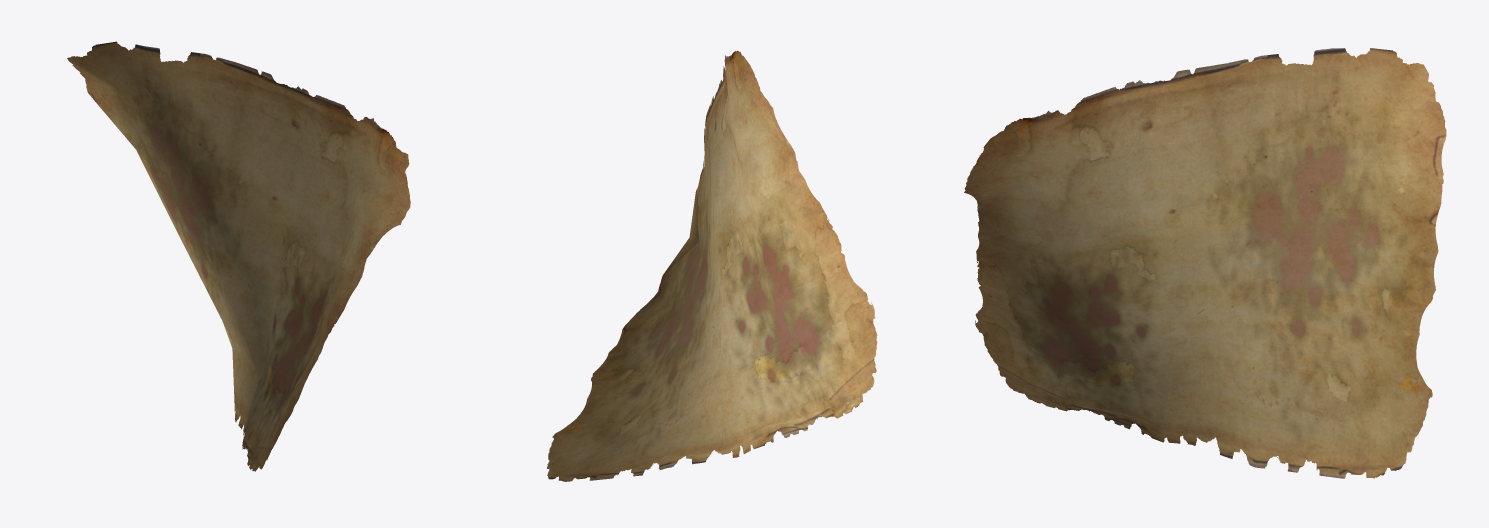
Rendered from tissue3.FBX.
The picture shows the model from 3 angles, left to right: view 1: azimuth 30°, elevation 25°; view 2: azimuth 150°, elevation 25°; view 3: azimuth 270°, elevation 25°; orthographic projection. The views are drawn at different scales.
Parts seen in each view (by area): view 1: tissue3; view 2: tissue3; view 3: tissue3.
Part boxes in pixels (x1,y1,x2,y2): tissue3: (67,41,410,471); tissue3: (547,50,877,481); tissue3: (964,48,1446,478).
Bounding box in the file's own units: 60.06 × 99.31 × 107.
